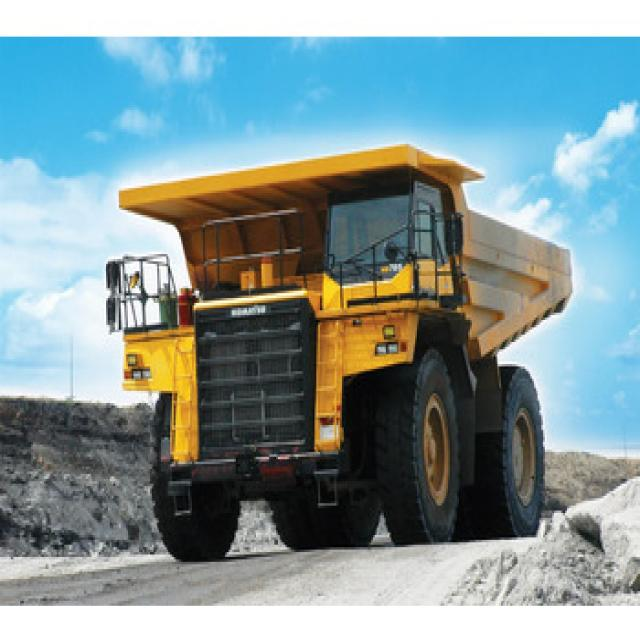dump_truck: (108, 136, 573, 546)
